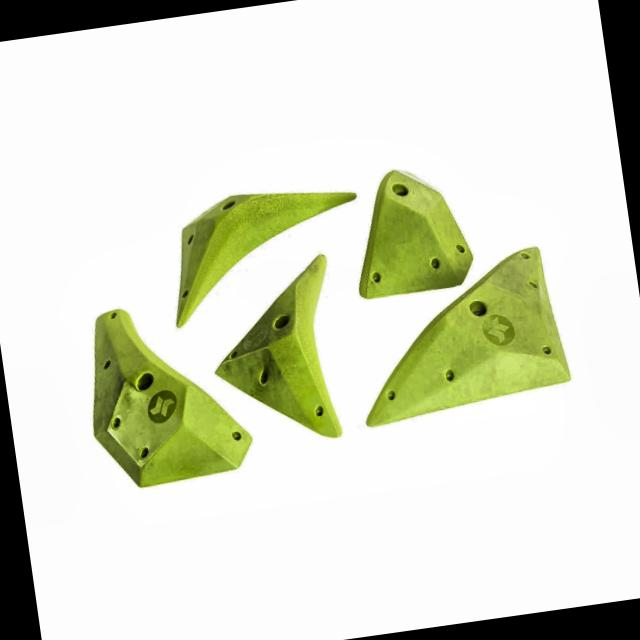Hold: (339, 239, 577, 453), (65, 284, 263, 514), (158, 172, 370, 322), (208, 250, 348, 469), (340, 154, 476, 307)
